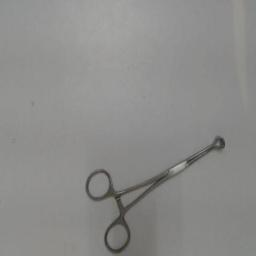Babcock Tissue Forceps: (84, 134, 228, 254)
